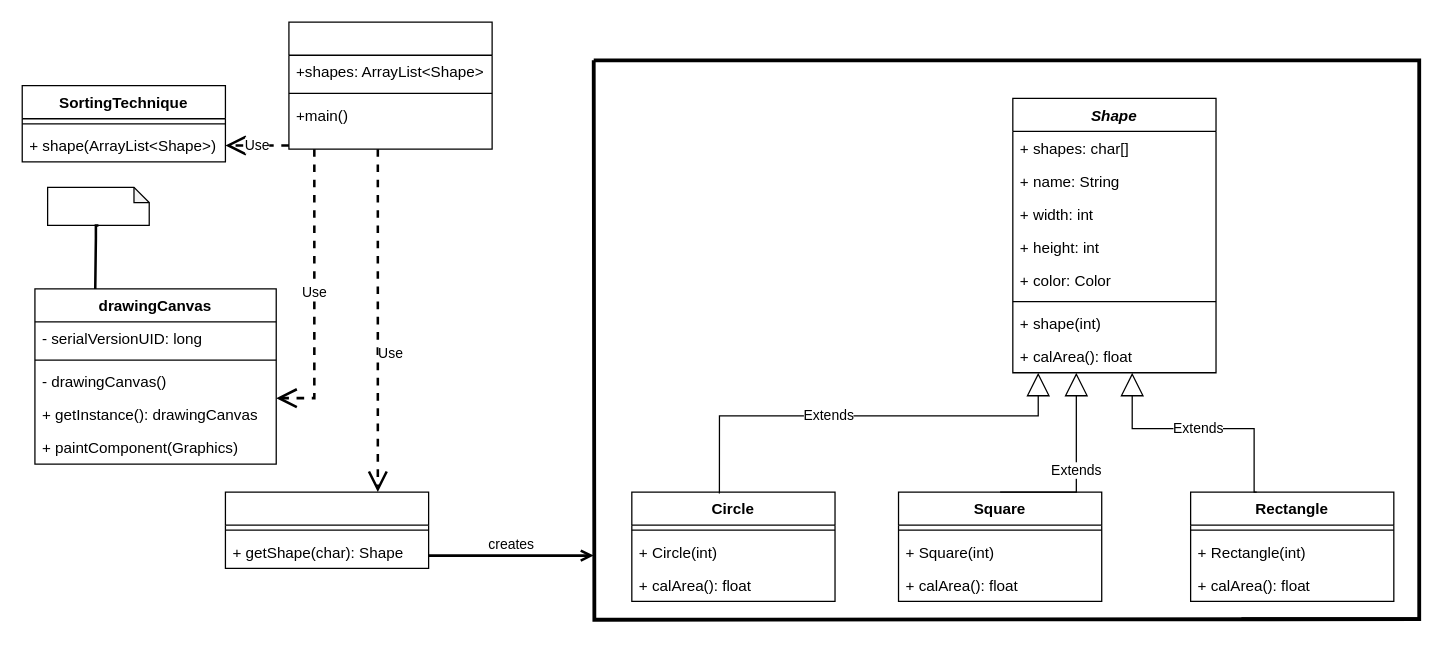
Some shapes in this 1444 by 645 pixel diagram are drawn without their labels. Each missing label, with the box of its shape:
myPanel: (288, 21, 492, 149)
ShapeFactory: (224, 491, 429, 568)
Singleton: (46, 186, 149, 225)
